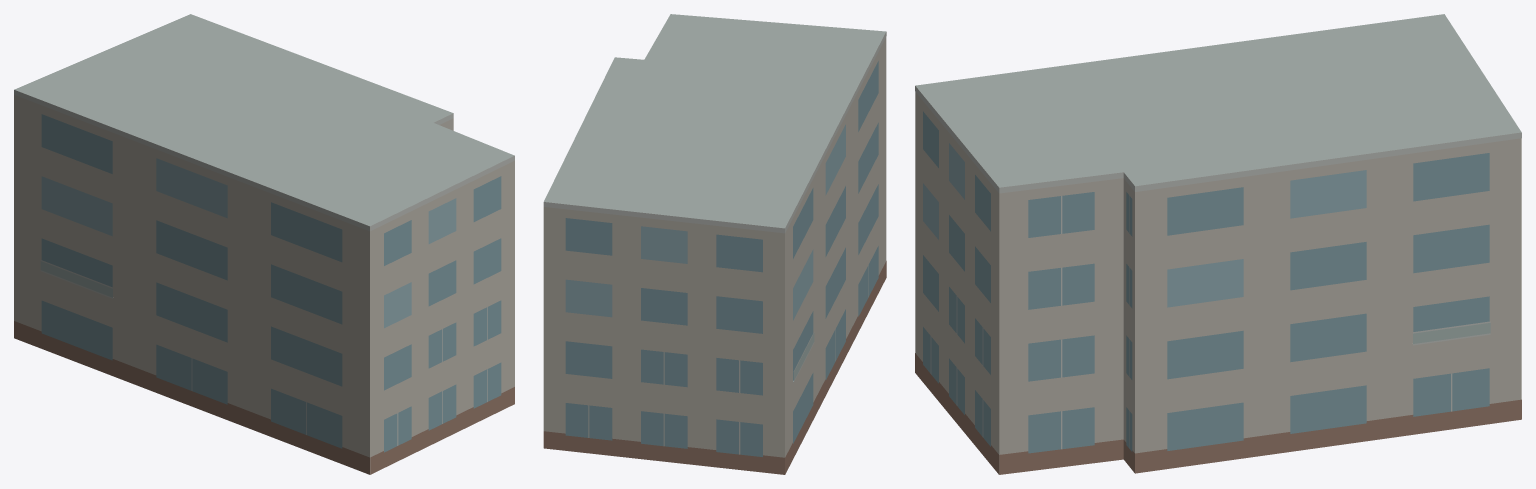
Rendered from survey-upis-32639576.glb.
The picture shows the model from 3 angles, left to right: view 1: azimuth 30°, elevation 25°; view 2: azimuth 150°, elevation 25°; view 3: azimuth 270°, elevation 25°; orthographic projection. The views are drawn at different scales.
Visible parts, largest first — view 1: survey-upis-32639576.tmp; view 2: survey-upis-32639576.tmp; view 3: survey-upis-32639576.tmp.
Part boxes in pixels (box(x1,y1,x2,y2)): survey-upis-32639576.tmp: box(14, 14, 514, 474); survey-upis-32639576.tmp: box(543, 14, 886, 474); survey-upis-32639576.tmp: box(915, 14, 1521, 474).
Size of the model in its own units: 15.71 by 12.1 by 23.18.
